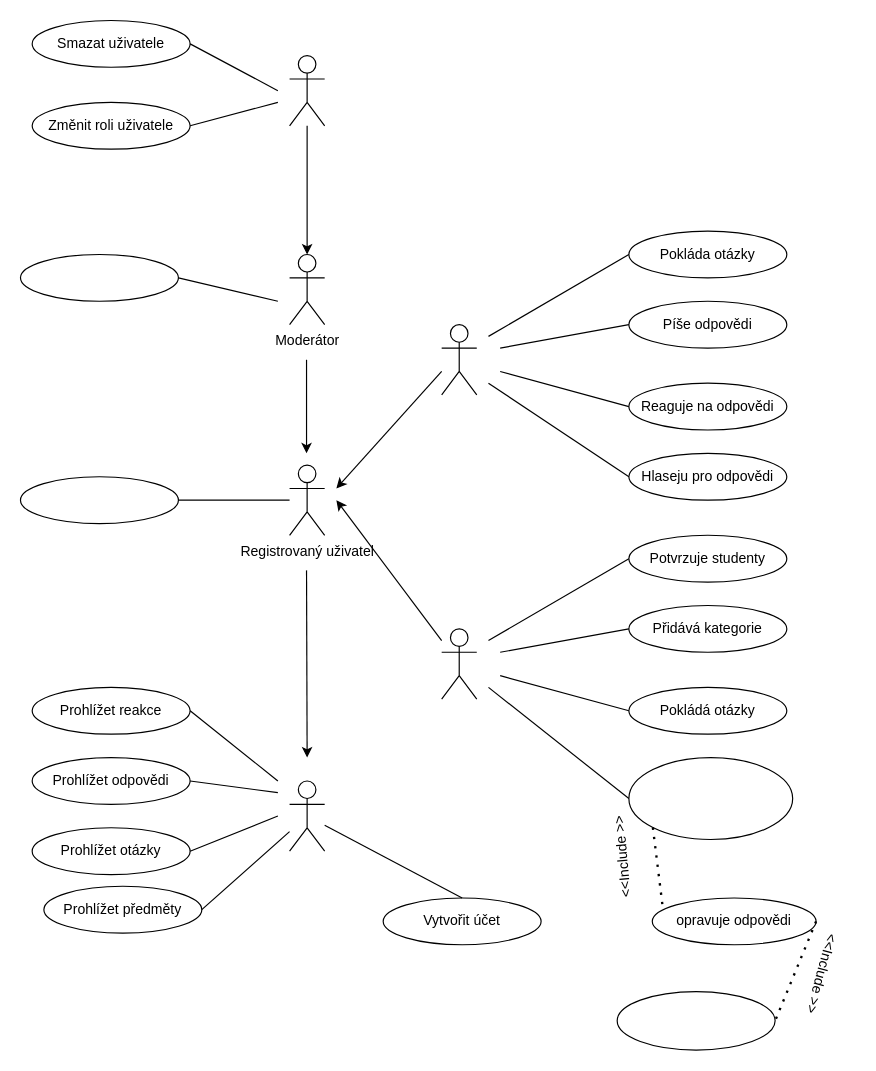
Image size: 876x1071. Some labels were removed from this diagram. The centre of each missing label's shape, as x and y in pixels:
"student předmětu": pixel 459 359
"vedoucí kurzu": pixel 459 663
Administrátor: pixel 306 90
Neregistrovaný uživatel: pixel 306 815
Potvrzení předmětů: pixel 98 277
Píše správnou odpověď otázky: pixel 710 797
přidává body za odpověď: pixel 695 1020
Vytvořit předmět: pixel 98 500
